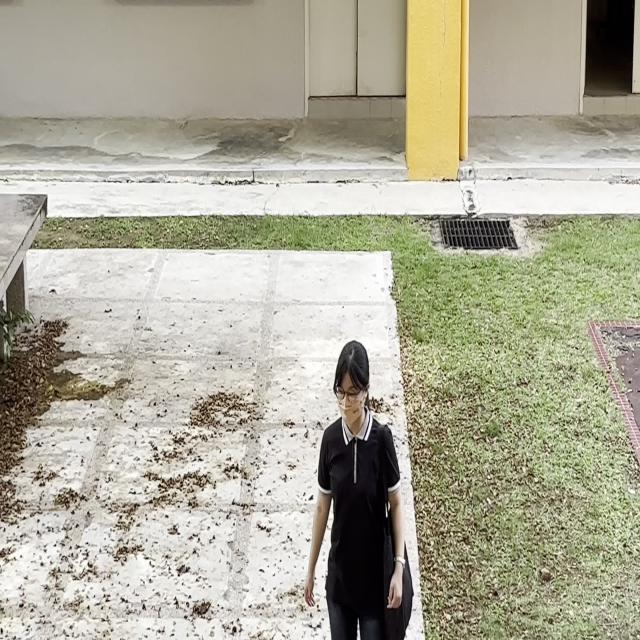Head: (333, 340, 370, 424)
